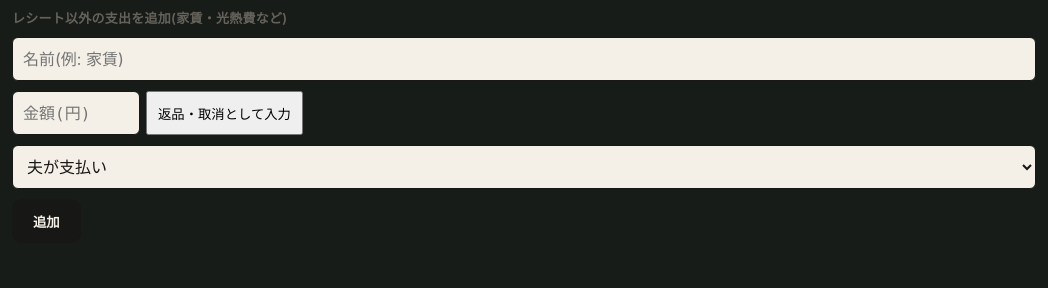
Test: ManualEntryForm › 金額が不正(除去してから解釈せずinvalid判定)だとrole=alertでエラー表示し、入力値を保持したまま追加されない。金額欄だけにaria-invalid/aria-describedbyが付く(ReceiptRowと同じparseYen方式)
Type "駐車場代" into the field named "支出の名前". click: {"x": 524, "y": 59}
box: left=12, top=37, right=1036, bottom=81
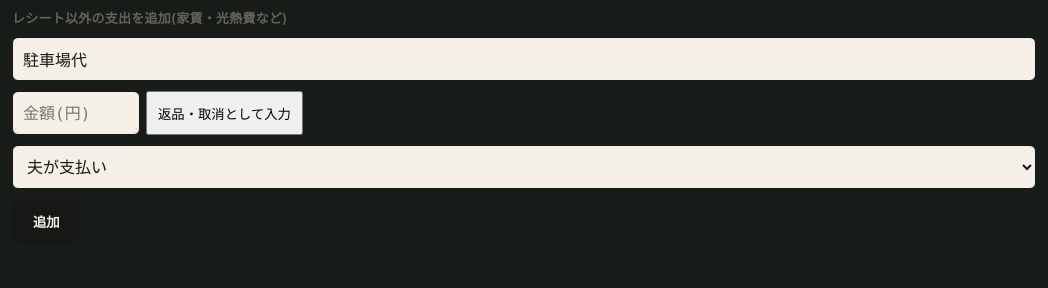
Type "12abc34" into the field named "追加する金額(円)". click: {"x": 76, "y": 113}
box: left=12, top=91, right=140, bottom=135
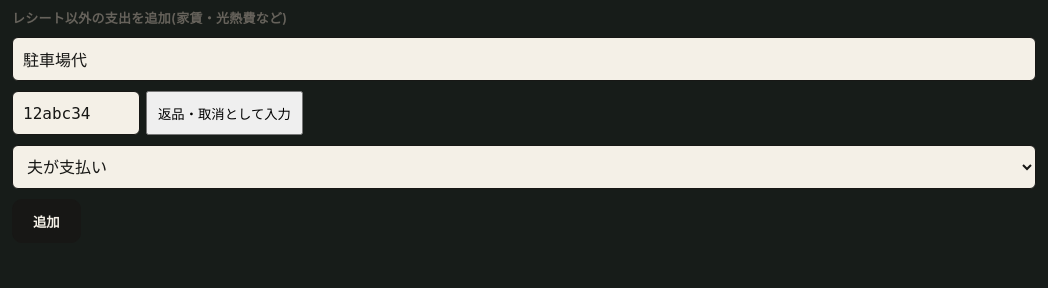
Click the button "追加". click: {"x": 46, "y": 221}
box: left=12, top=199, right=81, bottom=243
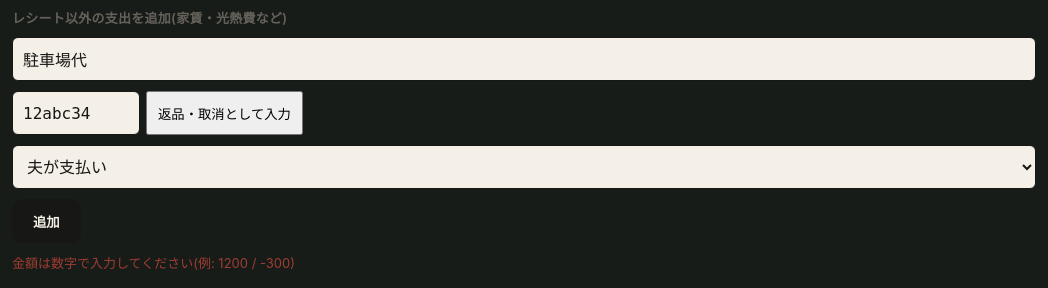
Check: the message shows "金額は数字で入力してください", box left=12, top=255, right=295, bottom=271
